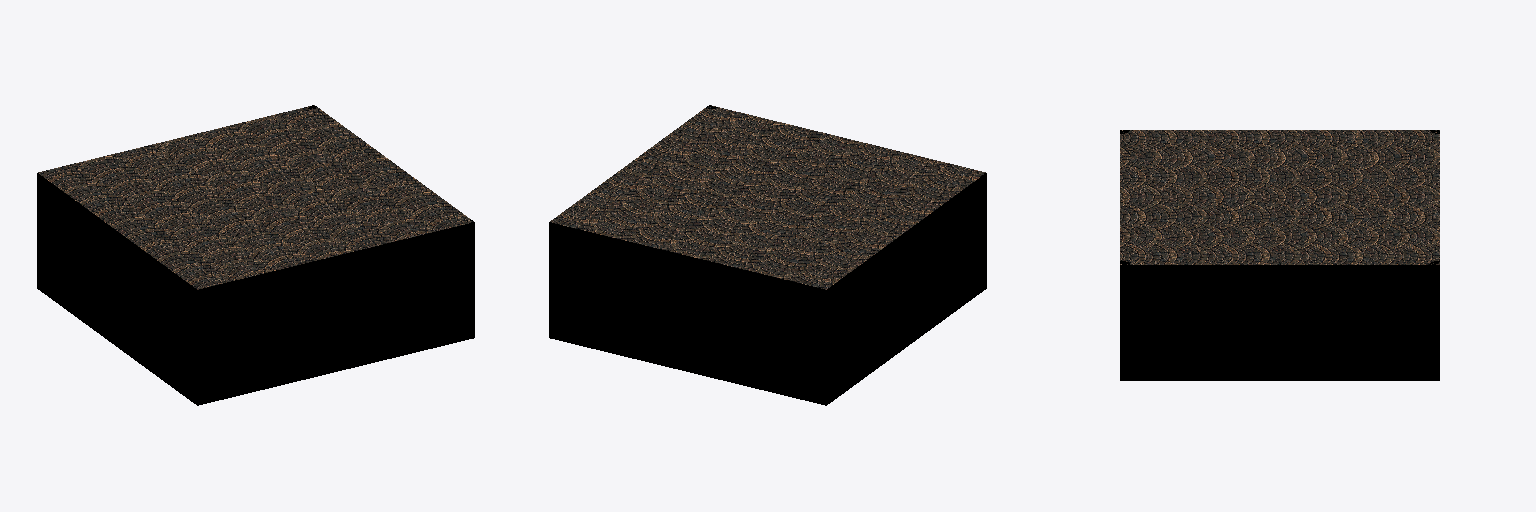
3 views of the same model, side by side, from view 1: azimuth 30°, elevation 25°; view 2: azimuth 150°, elevation 25°; view 3: azimuth 270°, elevation 25° (orthographic).
Visible parts, largest first — view 1: pCube1; view 2: pCube1; view 3: pCube1.
Boxes of the visible parts, box(x1,y1,x2,y2) form: pCube1: box(37, 105, 474, 405); pCube1: box(549, 105, 986, 405); pCube1: box(1120, 130, 1439, 380).
Size of the model in its own units: 60 by 24.25 by 60.
Materials: 32 (6 with a texture image).